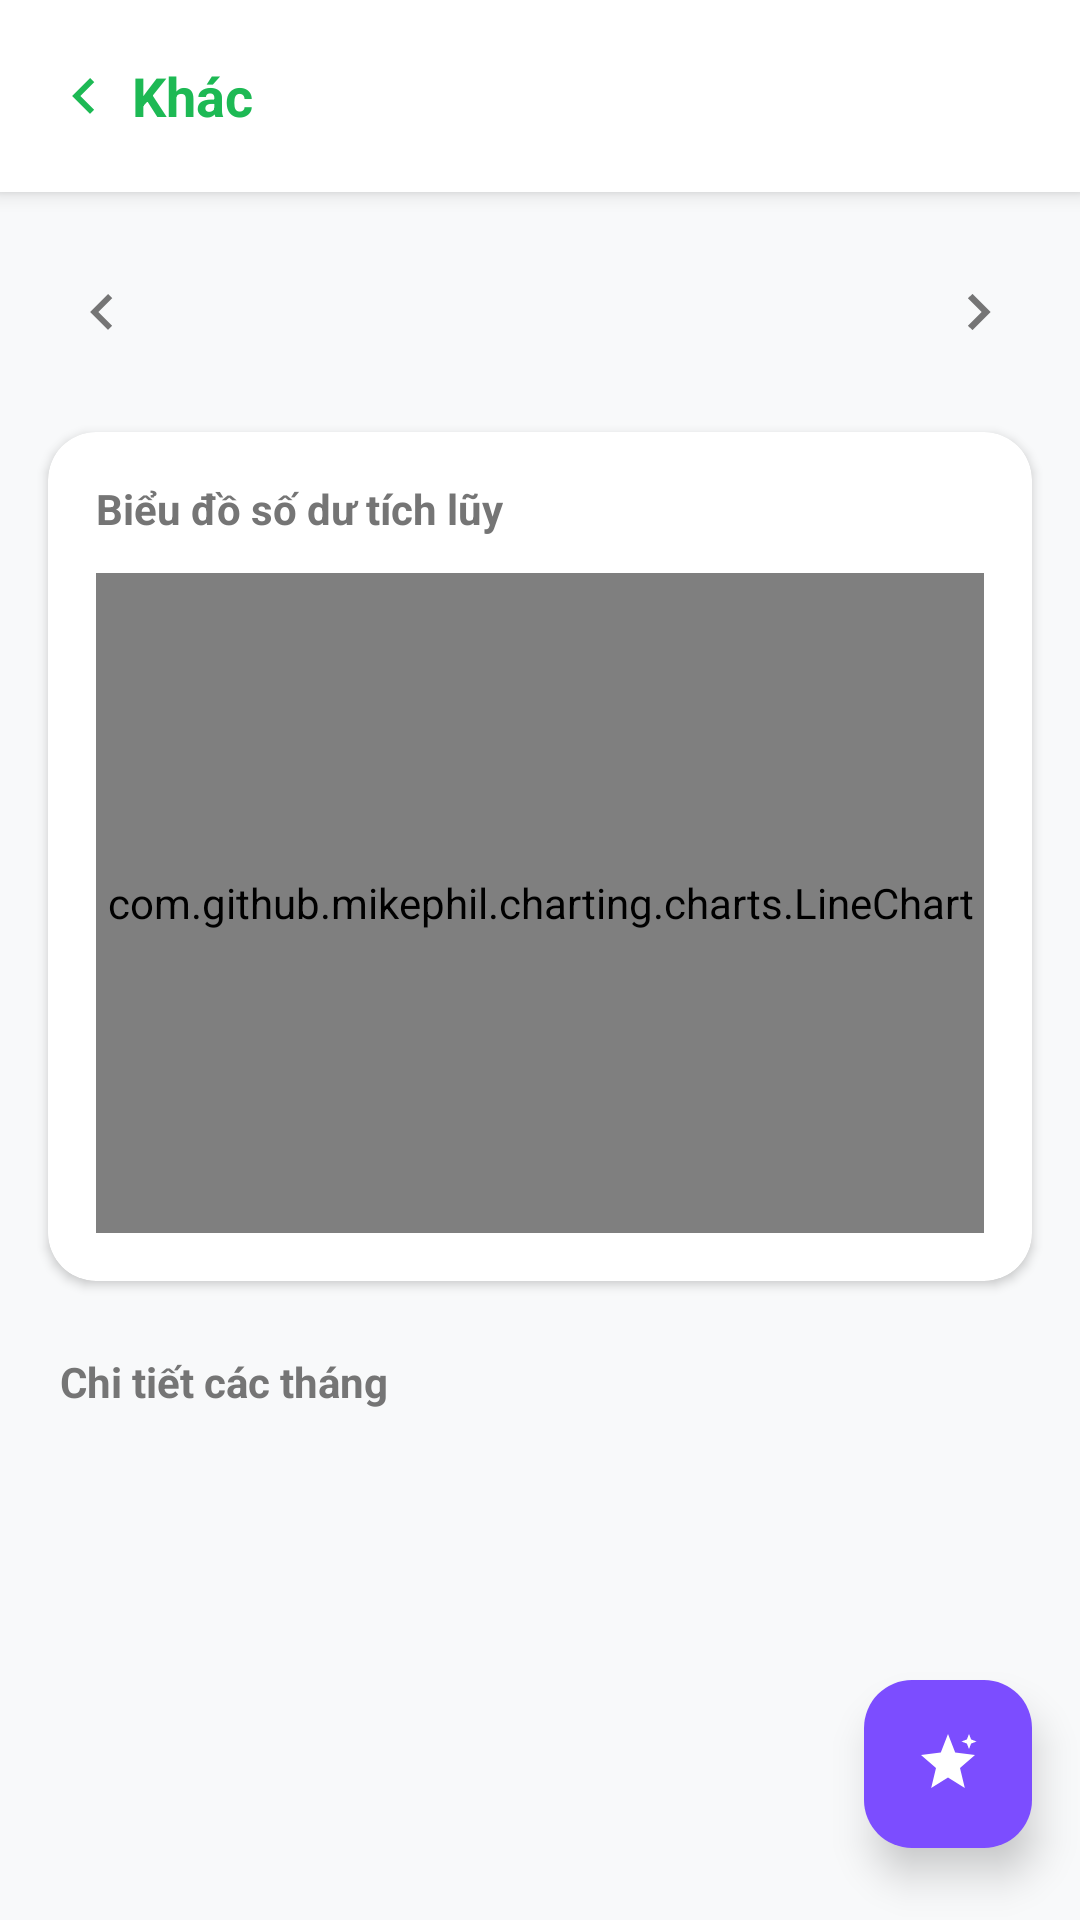

Named icons in this screenshot (1080px×1920px) and their centers, [x,y]:
chevron left: [83,96], [101,312]
chevron right: [979,312]
Trợ lý AI: [948,1764]
